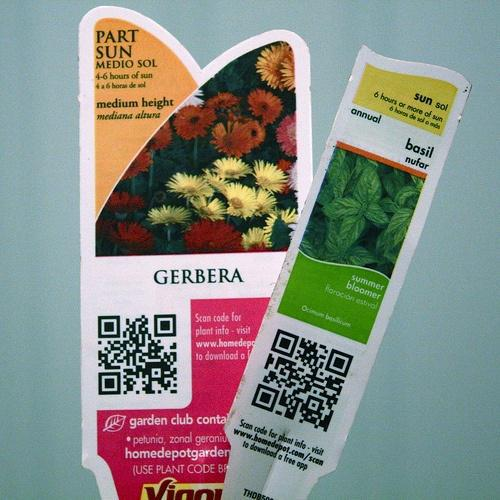Finder pattern: (267, 326, 301, 359), (249, 381, 282, 412), (324, 346, 355, 378), (95, 367, 124, 398), (94, 310, 122, 341), (150, 311, 178, 339)
